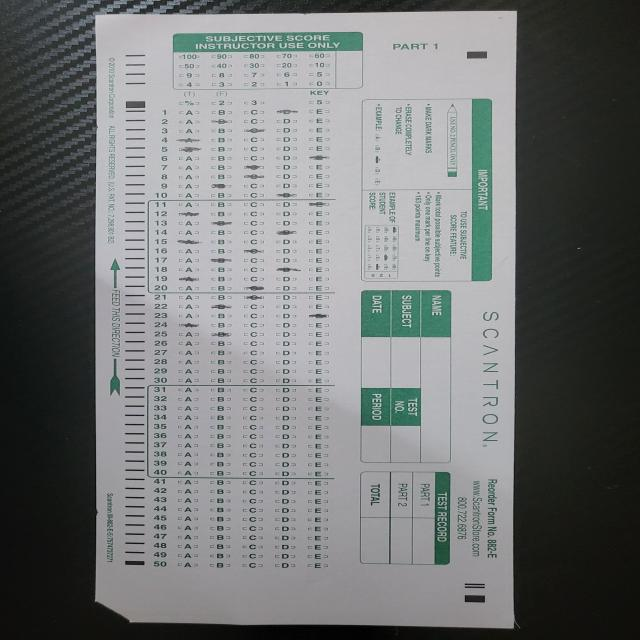scantron: (97, 10, 518, 629)
